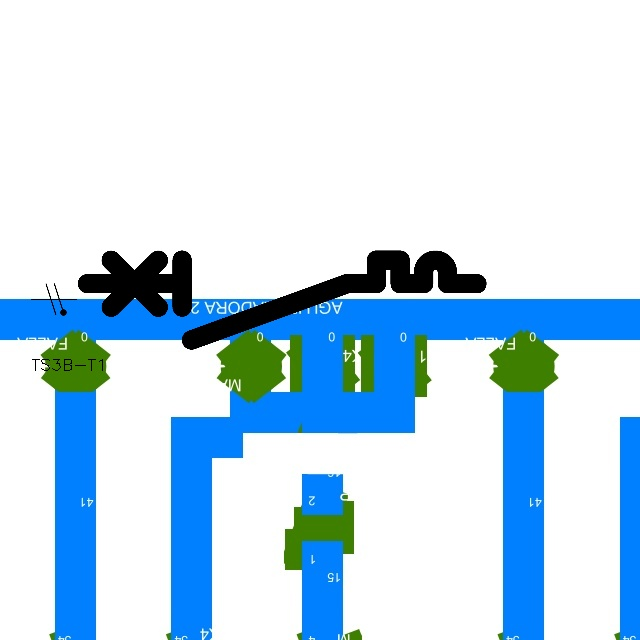interruptor_termomagnetico: (77, 250, 487, 350)
